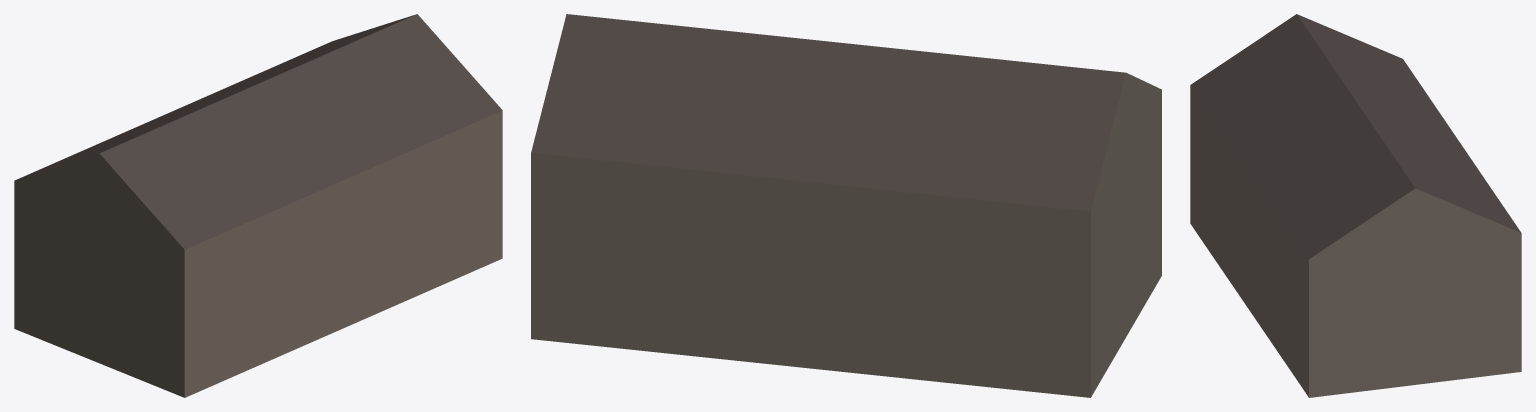
3 renders of one model, left to right at view 1: azimuth 30°, elevation 25°; view 2: azimuth 150°, elevation 25°; view 3: azimuth 270°, elevation 25°, orthographic. The views are drawn at different scales.
Visible parts, largest first — view 1: HP-w859447961; view 2: HP-w859447961; view 3: HP-w859447961.
Boxes of the visible parts, x1=… form: HP-w859447961: x1=14, y1=14, x2=502, y2=397; HP-w859447961: x1=531, y1=14, x2=1161, y2=397; HP-w859447961: x1=1190, y1=14, x2=1521, y2=397.
Bounding box in the file's own units: 27.89 × 12.76 × 19.48.
